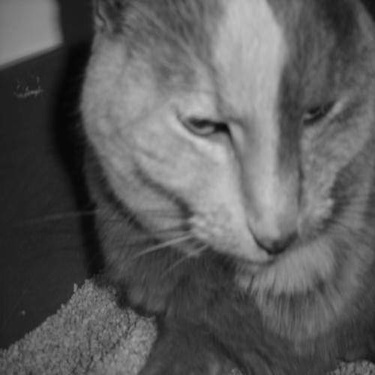cat: (52, 3, 371, 374)
